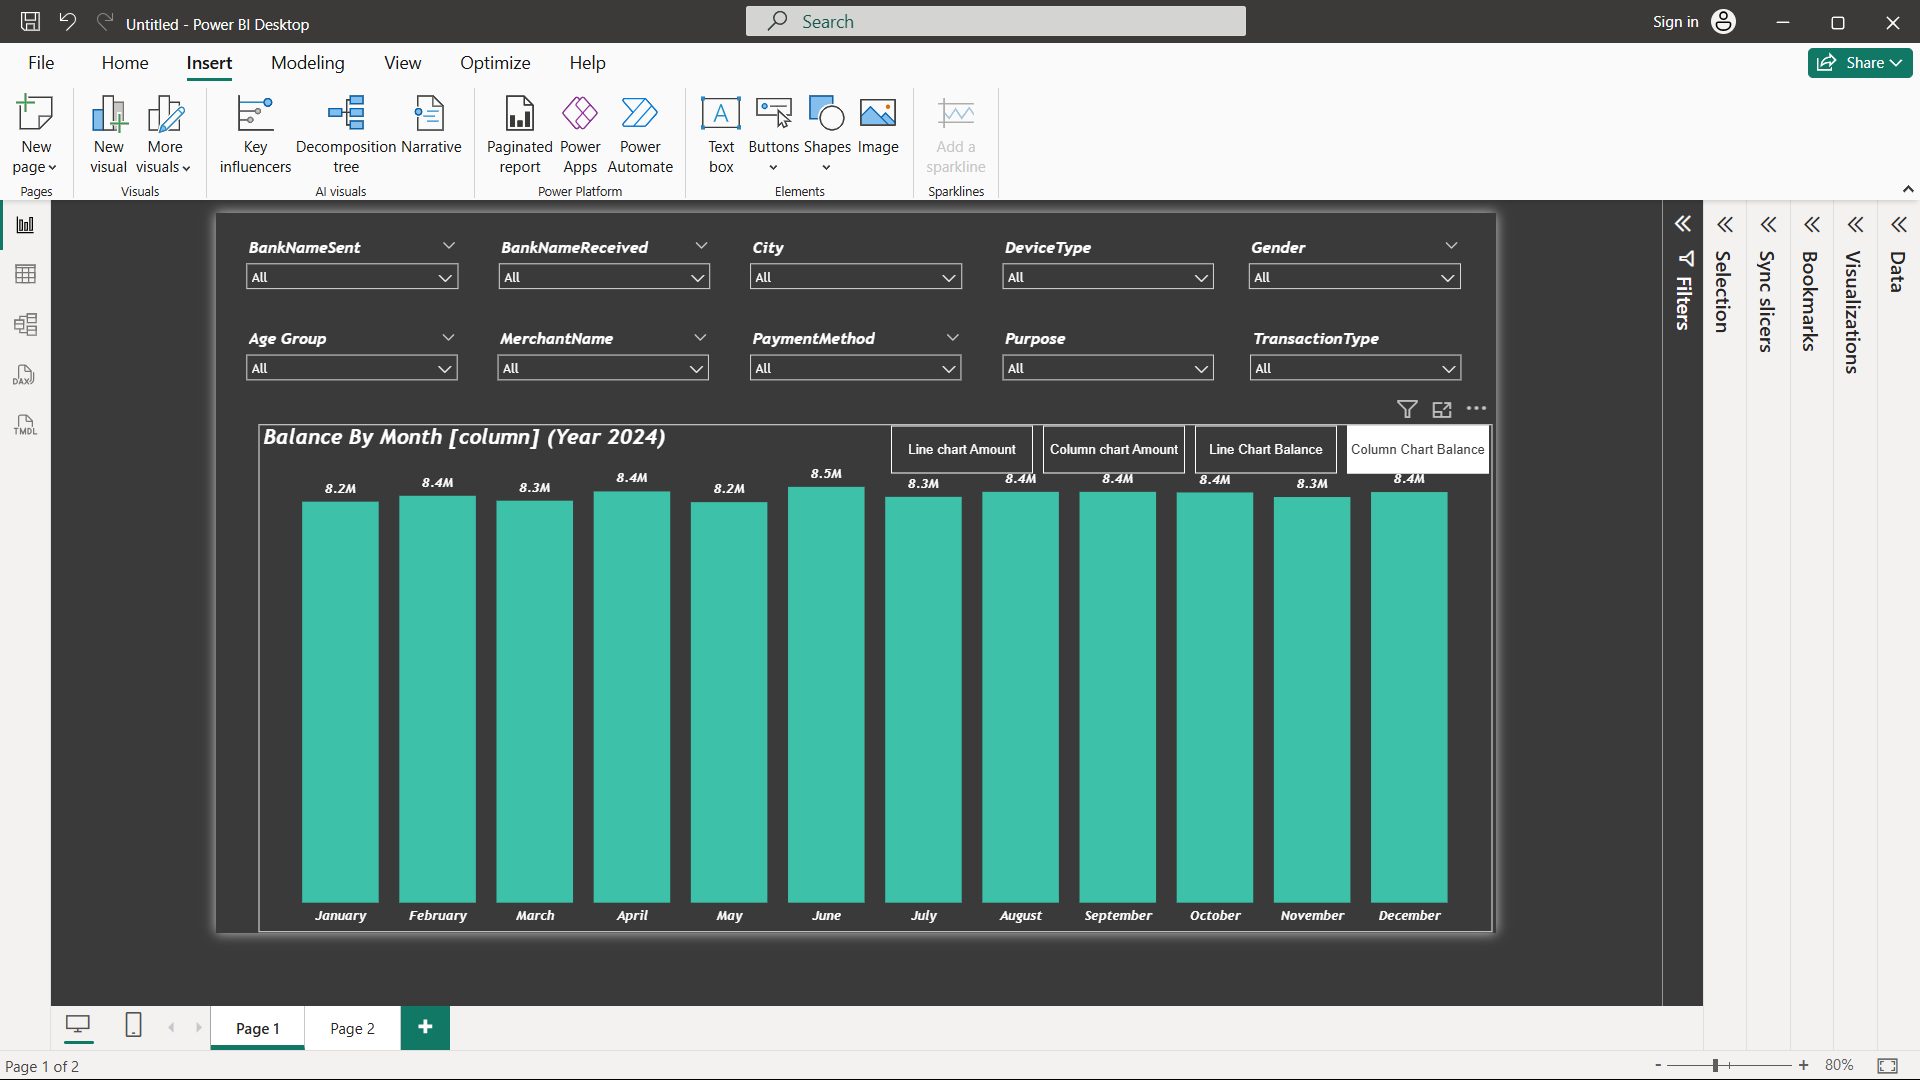

The dashboard page shown, as its layout file describes it:
{"tool":"powerbi","page":{"name":"Page 1","canvas":[1280,720],"ordinal":0},"visuals":[{"type":"slicer","fields":{"Values":["Sheet1.BankNameSent"]},"box":[20,20,232,80],"z":0},{"type":"slicer","fields":{"Values":["Sheet1.BankNameSent"]},"box":[272,20.6,231.9,79.6],"z":1000},{"type":"slicer","fields":{"Values":["Sheet1.BankNameSent"]},"box":[524,20.6,232,80],"z":2000},{"type":"slicer","fields":{"Values":["Sheet1.BankNameSent"]},"box":[776,20.6,231.9,79.6],"z":3000},{"type":"slicer","fields":{"Values":["Sheet1.BankNameSent"]},"box":[1023,20.6,232,80],"z":4000},{"type":"slicer","fields":{"Values":["Sheet1.BankNameSent"]},"box":[19.8,111.6,231.4,80.2],"z":4001},{"type":"slicer","fields":{"Values":["Sheet1.BankNameSent"]},"box":[271.7,111.1,231.9,79.6],"z":4002},{"type":"slicer","fields":{"Values":["Sheet1.BankNameSent"]},"box":[524.2,111.1,231.9,79.6],"z":4003},{"type":"slicer","fields":{"Values":["Sheet1.BankNameSent"]},"box":[776.7,111.1,231.9,79.6],"z":4004},{"type":"slicer","fields":{"Values":["Sheet1.BankNameSent"]},"box":[1023.7,111.1,231.9,79.6],"z":4005}]}

Visuals, with their boxes on the page's 1280x720 design canvas (x1, y1, x2, y2). These are canvas units, not pixel positions in the 1920x1080 screenshot, which may show the page scaled, cropped or inside an application window:
slicer - Sheet1.BankNameSent: region(20, 20, 252, 100)
slicer - Sheet1.BankNameSent: region(272, 21, 504, 100)
slicer - Sheet1.BankNameSent: region(524, 21, 756, 101)
slicer - Sheet1.BankNameSent: region(776, 21, 1008, 100)
slicer - Sheet1.BankNameSent: region(1023, 21, 1255, 101)
slicer - Sheet1.BankNameSent: region(20, 112, 251, 192)
slicer - Sheet1.BankNameSent: region(272, 111, 504, 191)
slicer - Sheet1.BankNameSent: region(524, 111, 756, 191)
slicer - Sheet1.BankNameSent: region(777, 111, 1009, 191)
slicer - Sheet1.BankNameSent: region(1024, 111, 1256, 191)
